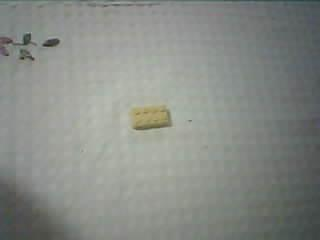lego: (129, 105, 172, 130)
